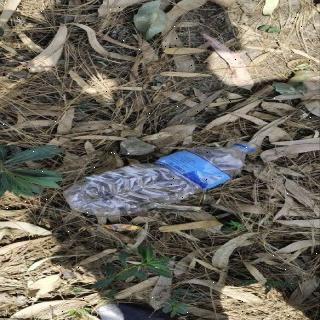Plastic-bottle: (61, 138, 270, 219)
